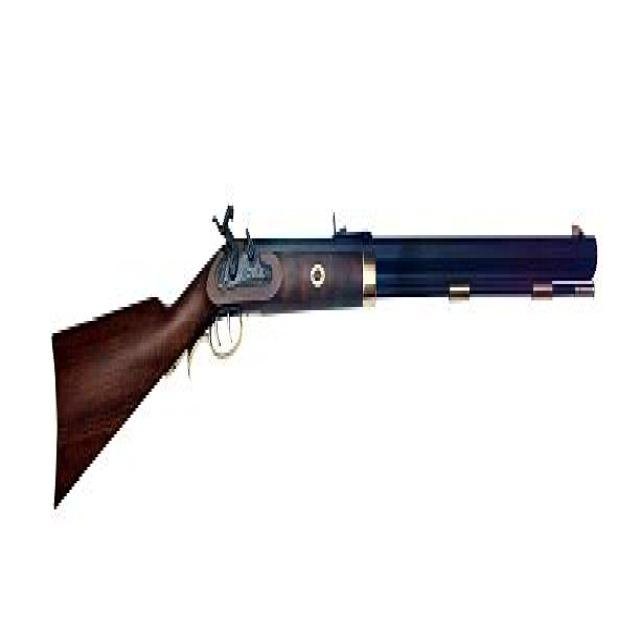rifle: (48, 203, 600, 522)
